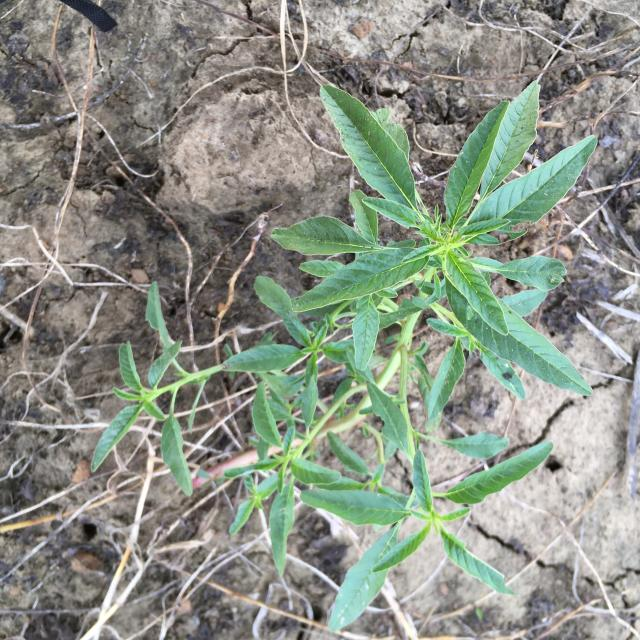Waterhemp: (90, 79, 598, 632)
